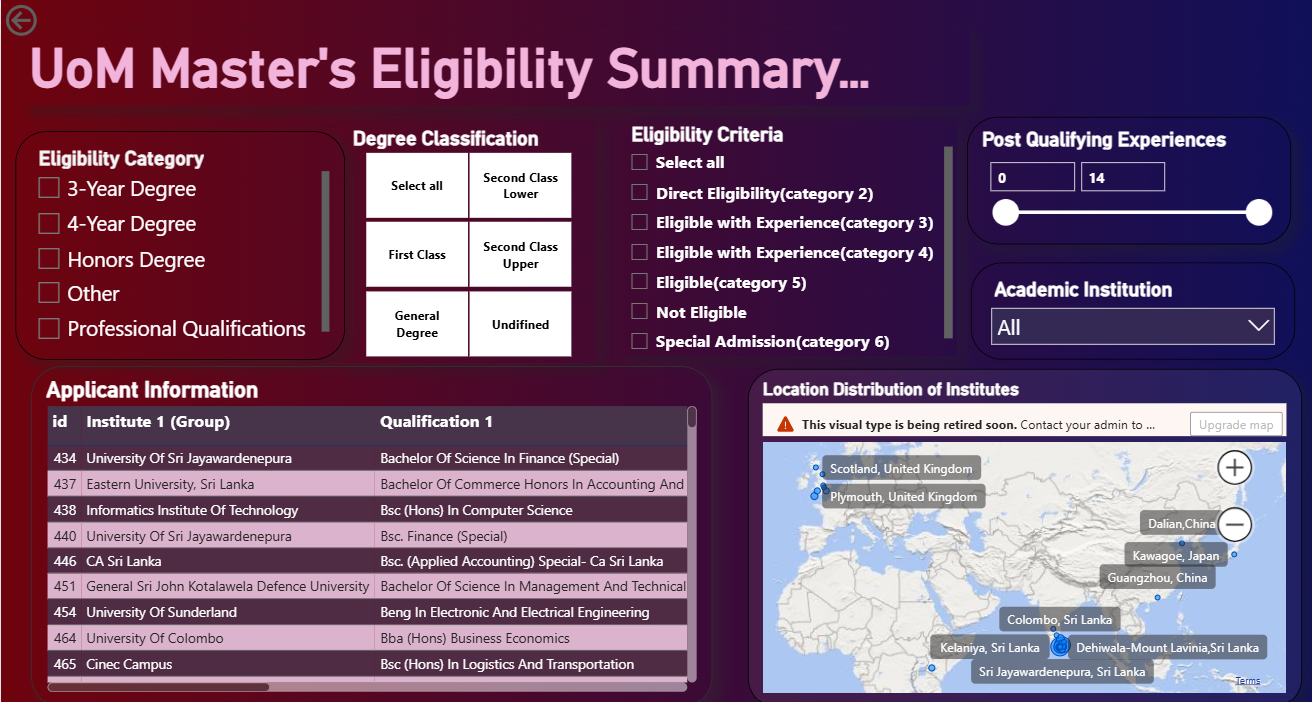

The dashboard page shown, as its layout file describes it:
{"tool":"powerbi","page":{"name":"Page 1","canvas":[1280,720],"ordinal":0},"visuals":[{"type":"slicer","fields":{"Values":["Applicant Dataset for Visualization.Degree Classification"]},"box":[329.5,117.5,249.7,236.3],"z":0},{"type":"slicer","fields":{"Values":["Applicant Dataset for Visualization.Institute 1.1"]},"box":[944,254.8,315.5,94.5],"z":1000},{"type":"slicer","fields":{"Values":["Applicant Dataset for Visualization.Eligibility Criteria"]},"box":[601.6,113.7,329.2,232.5],"z":2000},{"type":"actionButton","box":[0,0,100,40],"z":3000},{"type":"slicer","title":"Post Qualifying Experiences","fields":{"Values":["Applicant Dataset for Visualization.TotalPositionDuration"]},"box":[940.1,114.3,315.5,123.9],"z":4000},{"type":"slicer","fields":{"Values":["Applicant Dataset for Visualization.Eligibility Category(Q1)"]},"box":[13.9,128.3,320.6,222.2],"z":5000},{"type":"map","title":"Location Distribution of Institutes","fields":{"Category":["Applicant Dataset for Visualization.Location(Institute 1)","Applicant Dataset for Visualization.Location(Institute 3)","Applicant Dataset for Visualization.Location(Institute 4)","Applicant Dataset for Visualization.Location(Institute 2)"],"Size":["CountNonNull(Applicant Dataset for Visualization.id)"]},"box":[726.2,359.5,539.3,331],"z":6000},{"type":"textbox","box":[23.1,28.9,919.6,74.1],"z":7000},{"type":"tableEx","title":"Applicant Information","fields":{"Values":["Applicant Dataset for Visualization.id","Applicant Dataset for Visualization.Institute 1 (Group)","Applicant Dataset for Visualization.Qualification 1","Applicant Dataset for Visualization.Institute 2","Applicant Dataset for Visualization.Qualification 2","Sum(Applicant Dataset for Visualization.TotalPositionDuration)","Applicant Dataset for Visualization.Eligibility Criteria"]},"box":[28.9,356.9,662.9,332.1],"z":8000}]}

Visuals, with their boxes on the page's 1280x720 design canvas (x1, y1, x2, y2). These are canvas units, not pixel positions in the 1312x702 screenshot, which may show the page scaled, cropped or inside an application window:
slicer - Applicant Dataset for Visualization.Degree Classification: pyautogui.locateOnScreen(330, 118, 579, 354)
slicer - Applicant Dataset for Visualization.Institute 1.1: pyautogui.locateOnScreen(944, 255, 1260, 349)
slicer - Applicant Dataset for Visualization.Eligibility Criteria: pyautogui.locateOnScreen(602, 114, 931, 346)
actionButton: pyautogui.locateOnScreen(0, 0, 100, 40)
"Post Qualifying Experiences" slicer: pyautogui.locateOnScreen(940, 114, 1256, 238)
slicer - Applicant Dataset for Visualization.Eligibility Category(Q1): pyautogui.locateOnScreen(14, 128, 334, 350)
"Location Distribution of Institutes" map: pyautogui.locateOnScreen(726, 360, 1266, 690)
textbox: pyautogui.locateOnScreen(23, 29, 943, 103)
"Applicant Information" tableEx: pyautogui.locateOnScreen(29, 357, 692, 689)
